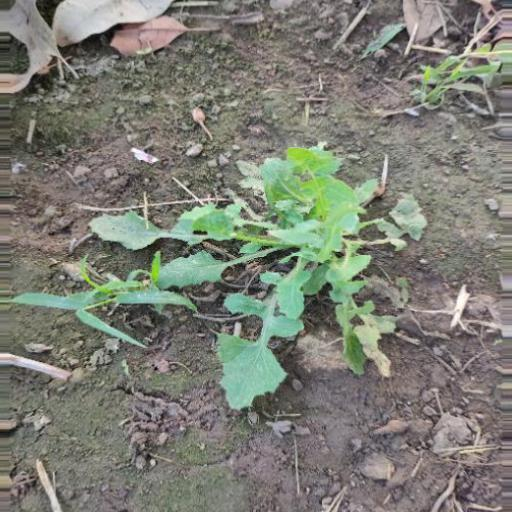crop: (81, 148, 425, 400)
